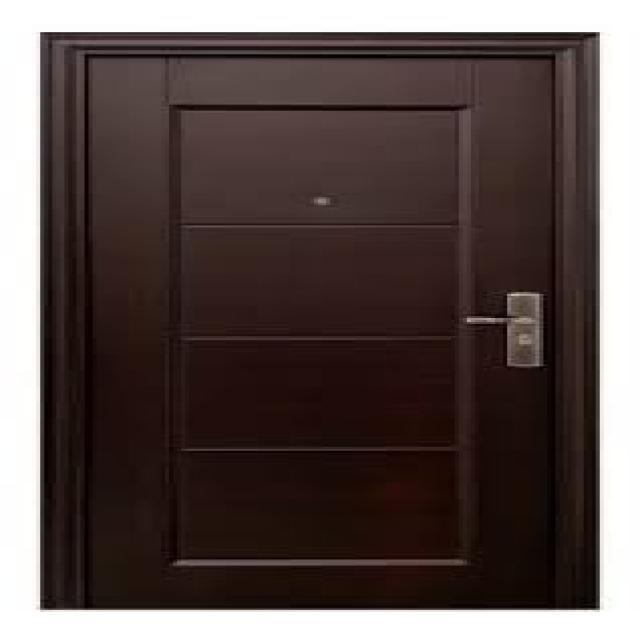door: (42, 32, 598, 610)
